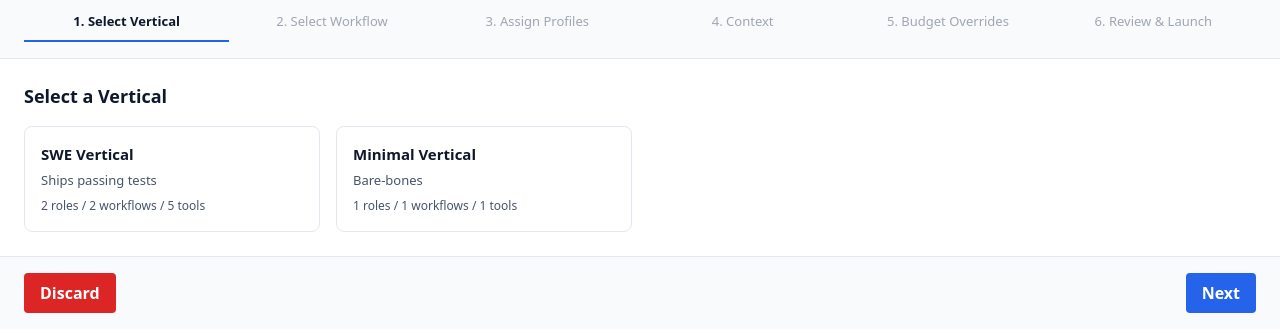
Scenario: Wizard step 3 — Assign Profiles › shows 'no matching profiles' message when a role has none
Click the text "SWE Vertical" at x=87, y=154, box x1=41 y1=144 x2=134 y2=164
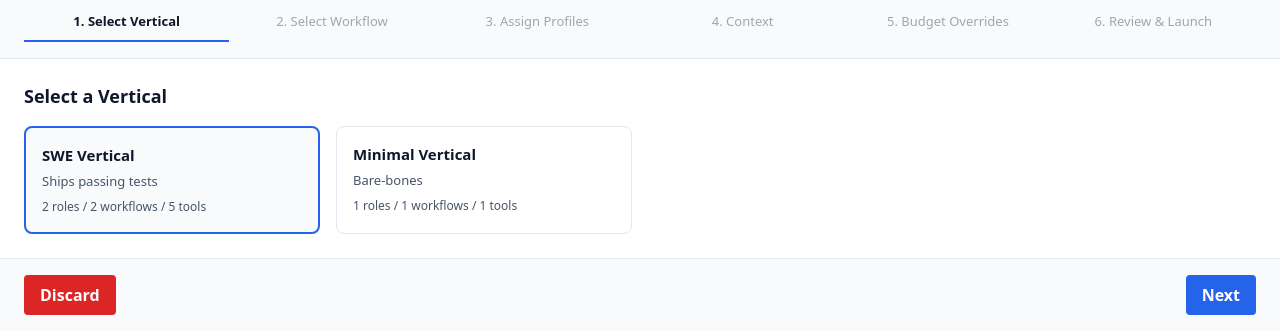
Click the button "Next" at x=1221, y=295, box x1=1186 y1=275 x2=1256 y2=315
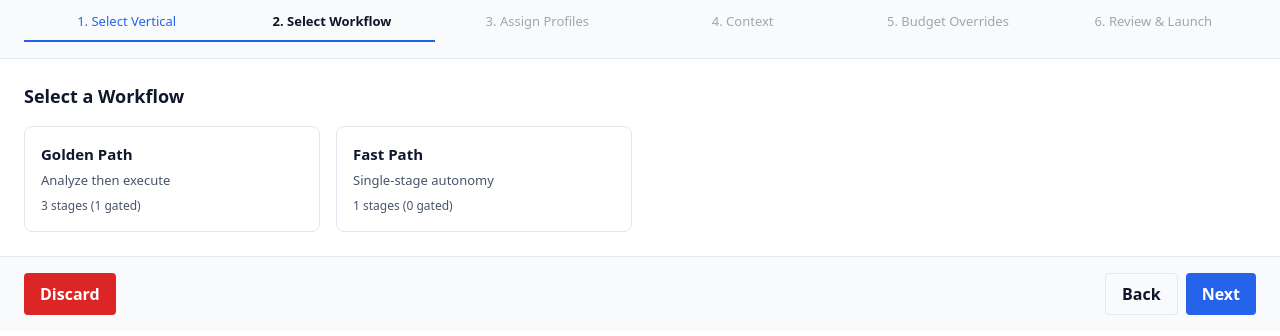
Result: the heading "Select a Workflow" is shown at x1=24 y1=84 x2=184 y2=108
Click the text "Golden Path" at x=87, y=154, box x1=41 y1=144 x2=133 y2=164
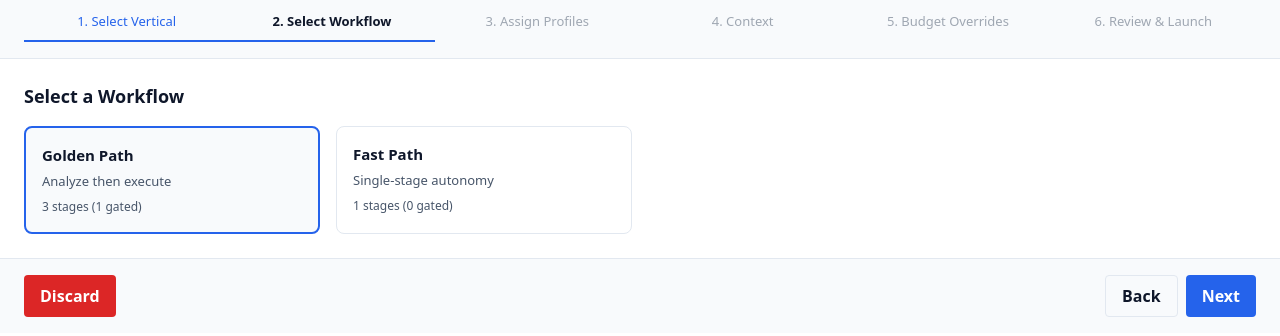
Click the button "Next" at x=1221, y=296, box x1=1186 y1=275 x2=1256 y2=317
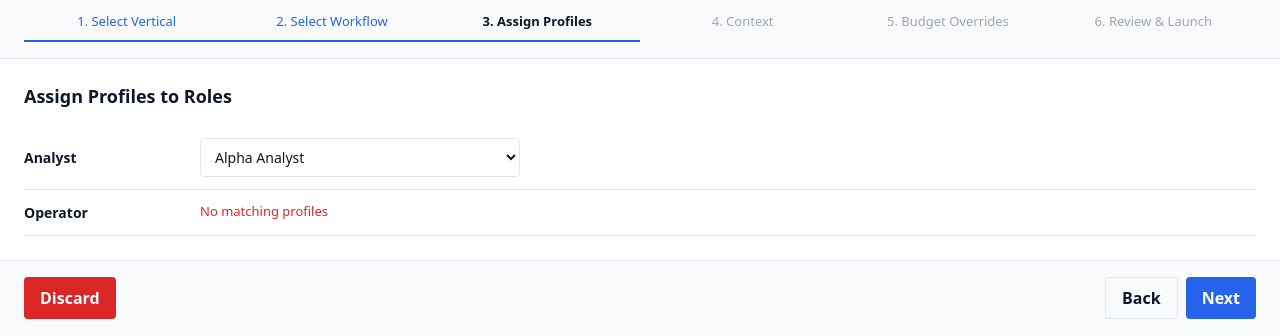
Result: the heading "Assign Profiles to Roles" is shown at x1=24 y1=84 x2=232 y2=108
Result: the text "No matching profiles" is shown at x1=200 y1=202 x2=328 y2=222
